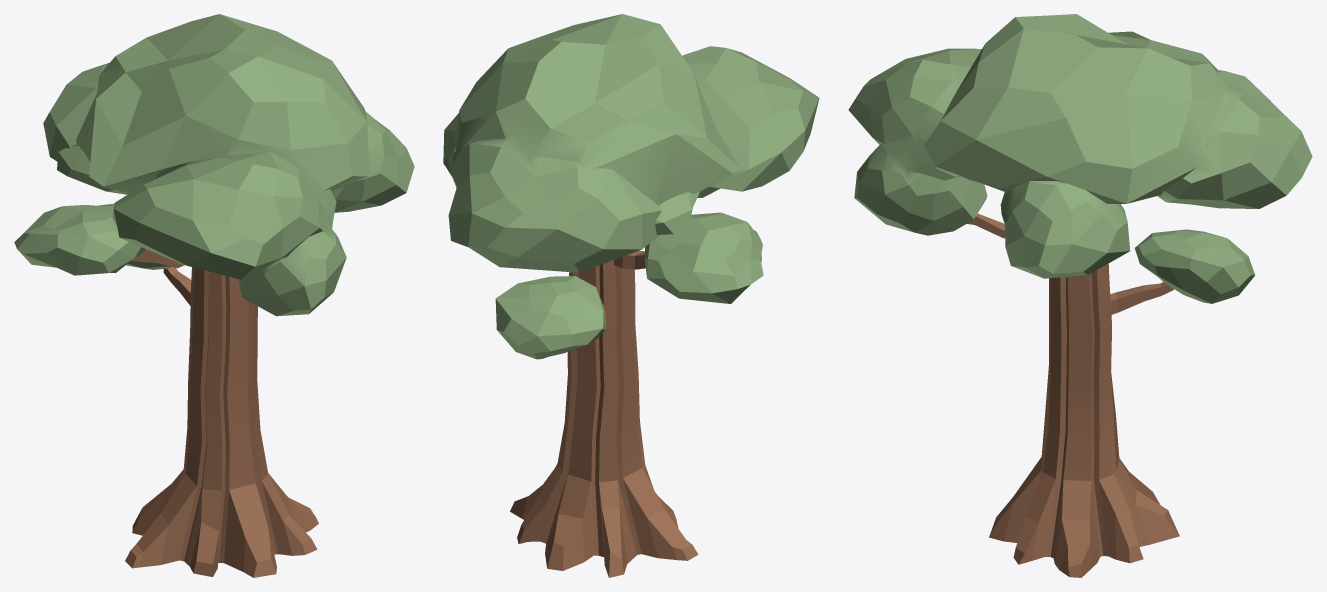
The model's file is buttressGrouped.fbx.
3 renders of one model, left to right at view 1: azimuth 30°, elevation 25°; view 2: azimuth 150°, elevation 25°; view 3: azimuth 270°, elevation 25°, orthographic.
Visible parts, largest first — view 1: leaves, trunk; view 2: leaves, trunk; view 3: leaves, trunk.
Part boxes in pixels (x1=…): leaves: x1=14, y1=14, x2=414, y2=316; trunk: x1=125, y1=249, x2=318, y2=577; leaves: x1=443, y1=14, x2=819, y2=359; trunk: x1=510, y1=250, x2=698, y2=577; leaves: x1=848, y1=14, x2=1312, y2=303; trunk: x1=966, y1=213, x2=1179, y2=577.
Size of the model in its own units: 73.74 by 101 by 83.01.
